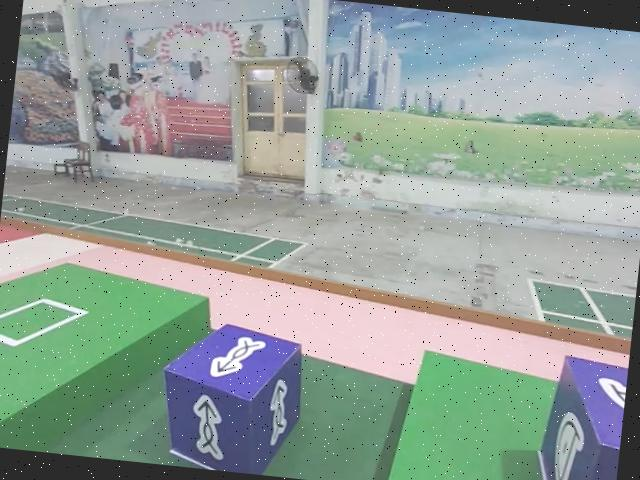R2 Real Blue: (153, 320, 306, 479), (535, 356, 628, 480)
